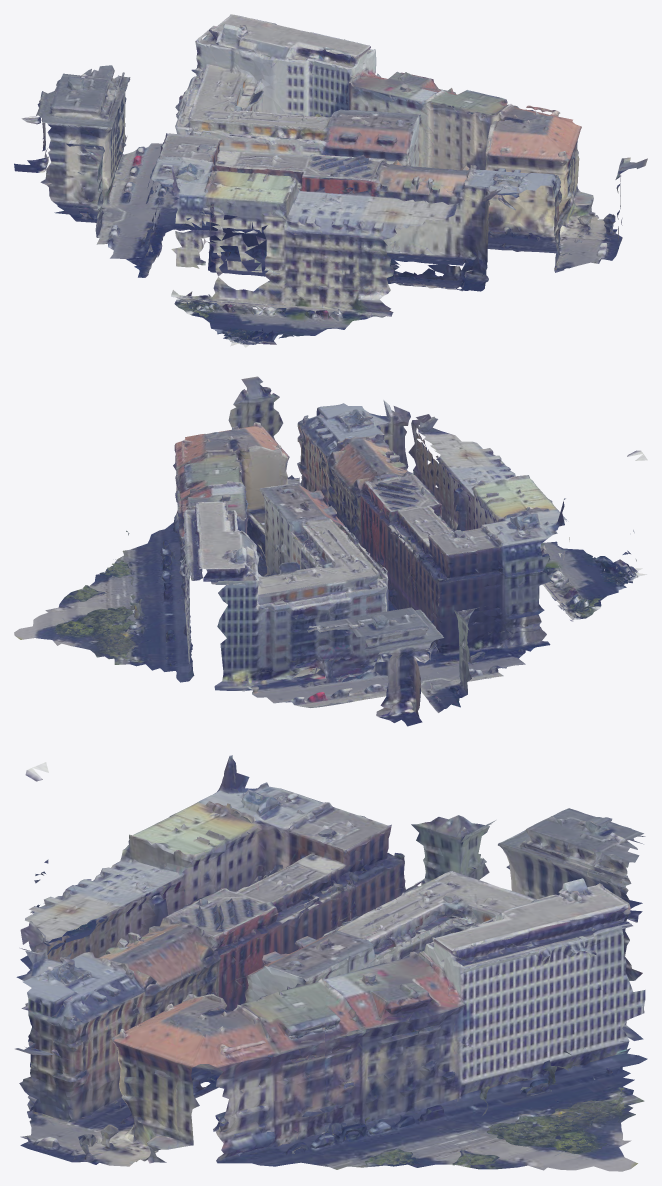
3 views of the same model, one above another, from view 1: azimuth 30°, elevation 25°; view 2: azimuth 150°, elevation 25°; view 3: azimuth 270°, elevation 25° (orthographic). The views are drawn at different scales.
Size of the model in its own units: 106 by 32.31 by 108.
Materials: 1 (1 with a texture image).
